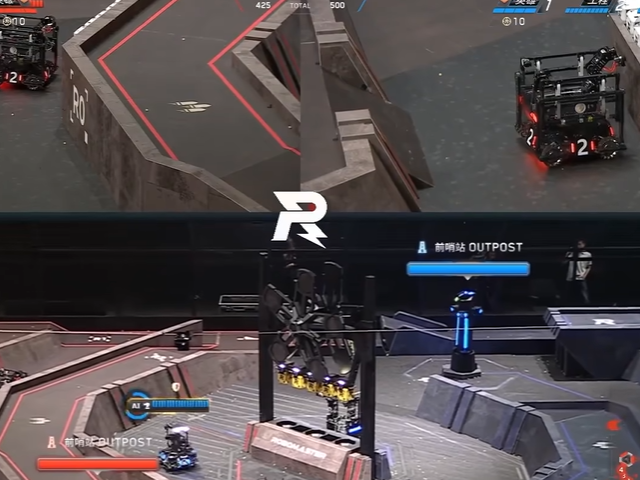rm: (512, 46, 631, 175), (1, 14, 59, 93), (158, 426, 200, 477), (325, 402, 361, 438)
